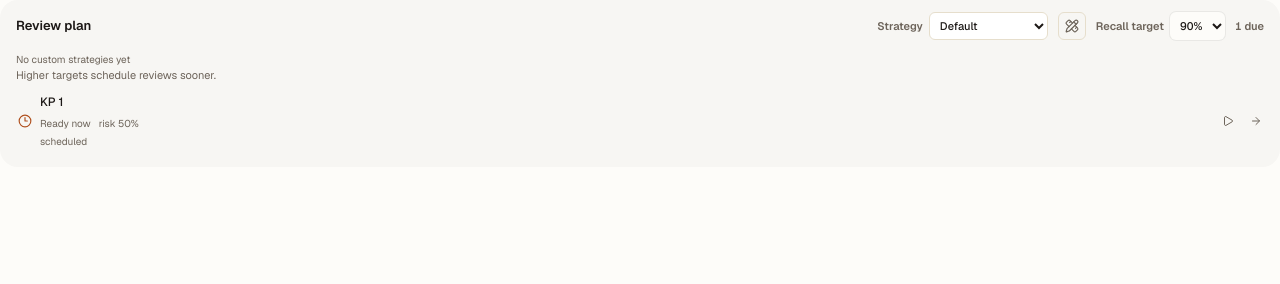
it: ReviewTrail strategies (#1908) › rejects decreasing custom rounds before submission
Click the button named "Edit strategy".
click(1072, 26)  # box [1058,12,1086,40]
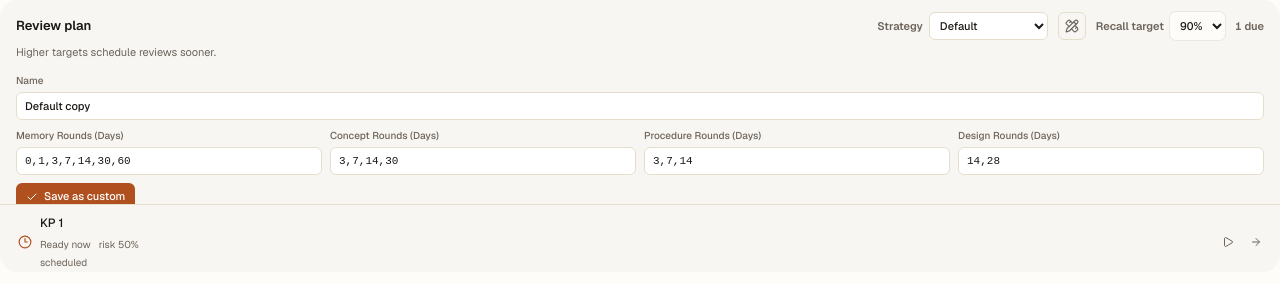
Replace the text in the field labelled "memory rounds (days)" with "0,2,1" at (169, 160), box [16,146,322,174]
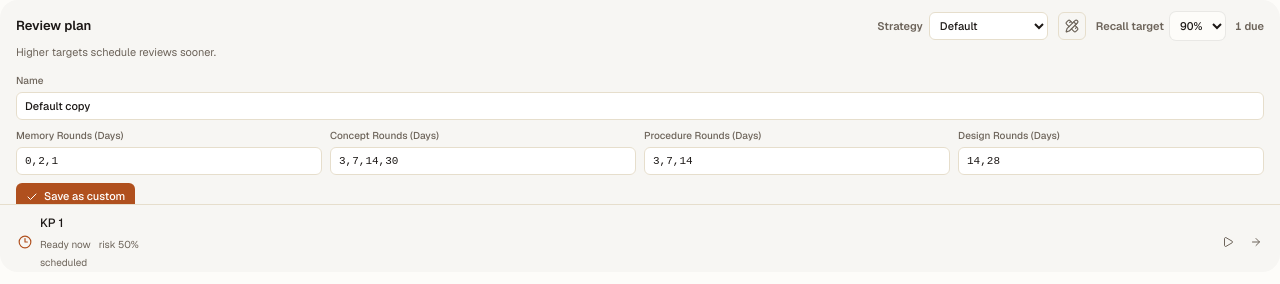
Click the button "Save as custom".
click(76, 196)  # box [16,182,135,210]
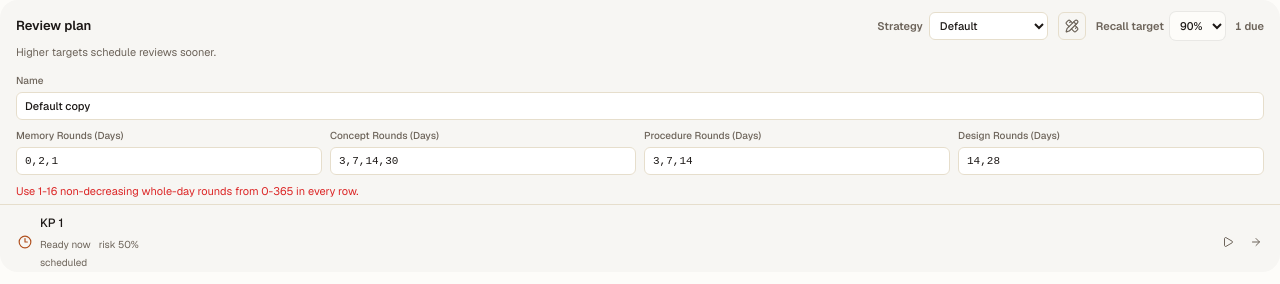
Check: the text "Use 1-16 non-decreasing whole-day rounds from 0-365 in every row." is shown, box [16,184,358,198]
